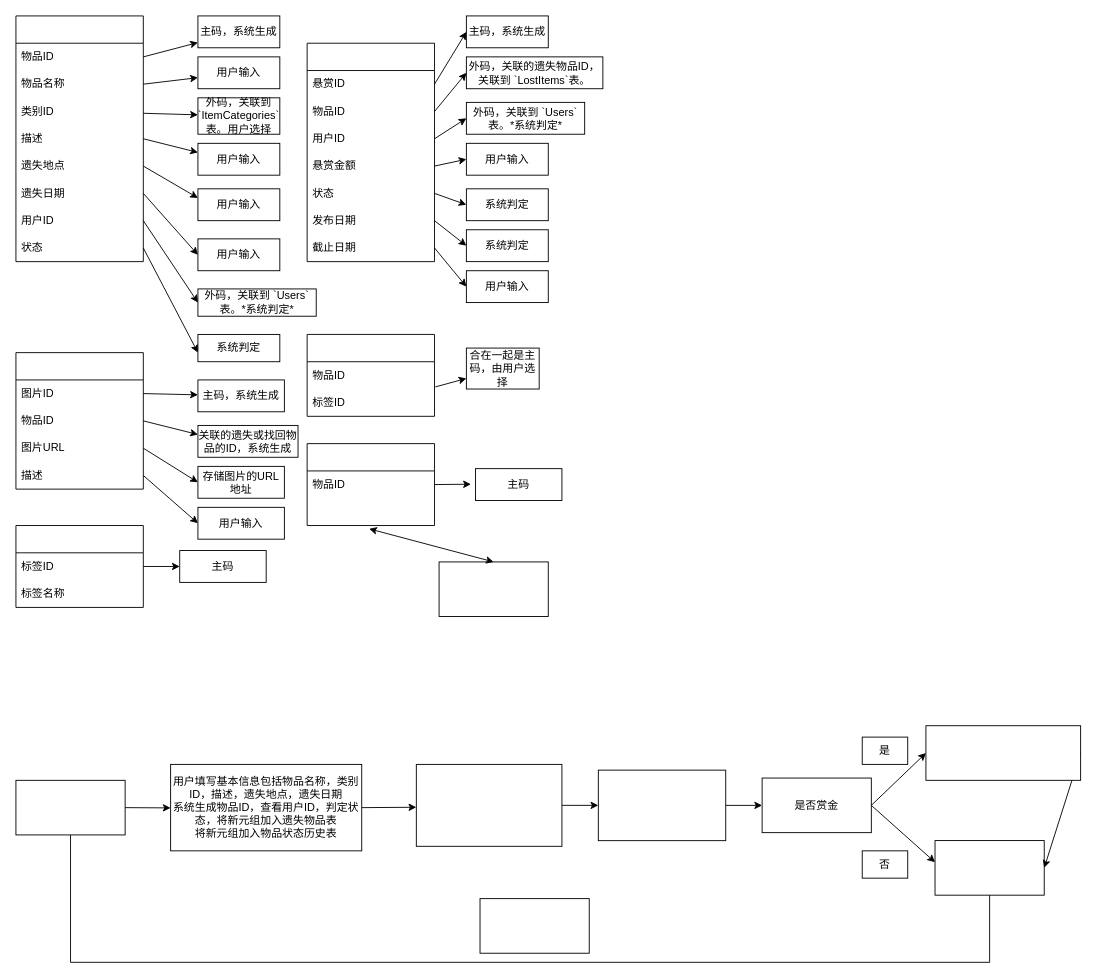
Some shapes in this 1104 by 979 pixel diagram are drawn without their labels. The box of each missing label's shape, as (x1, y1, x2, y2) in pixels:
审核不通过: (479, 898, 589, 953)
是否需要: (438, 561, 548, 617)
物品图片表ItemImages: (15, 352, 143, 489)
物品标签关联表ItemTagLinks: (306, 334, 435, 416)
物品标签表ItemTags: (15, 525, 143, 607)
物品状态历史表: (306, 443, 435, 526)
用户从物品标签表中继续选择标签，系统按照用户选择，将一些新元组加入物品标签关联表: (597, 769, 726, 841)
用户发布寻物启事（先注册或登录）: (15, 779, 125, 835)
用户继续添加图片，输入描述 系统生成图片ID，并查看已生成的物品ID，和图片URL，将一些新元组加入物品图片表: (415, 763, 562, 846)
用户输入悬赏金额和截止日期 系统根据已有的悬赏ID和物品ID用户ID状态，当前日期，将新元组加入赏金悬赏表: (925, 725, 1081, 780)
系统审核，发布完成: (934, 840, 1044, 895)
赏金悬赏表RewardOffers: (306, 42, 435, 262)
遗失物品表LostItems: (15, 15, 143, 262)
